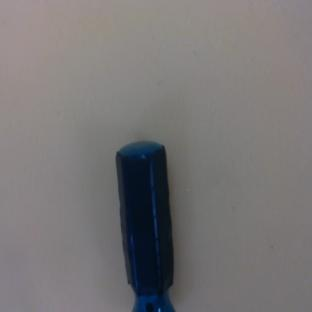part_2_bad: (114, 139, 178, 312)
